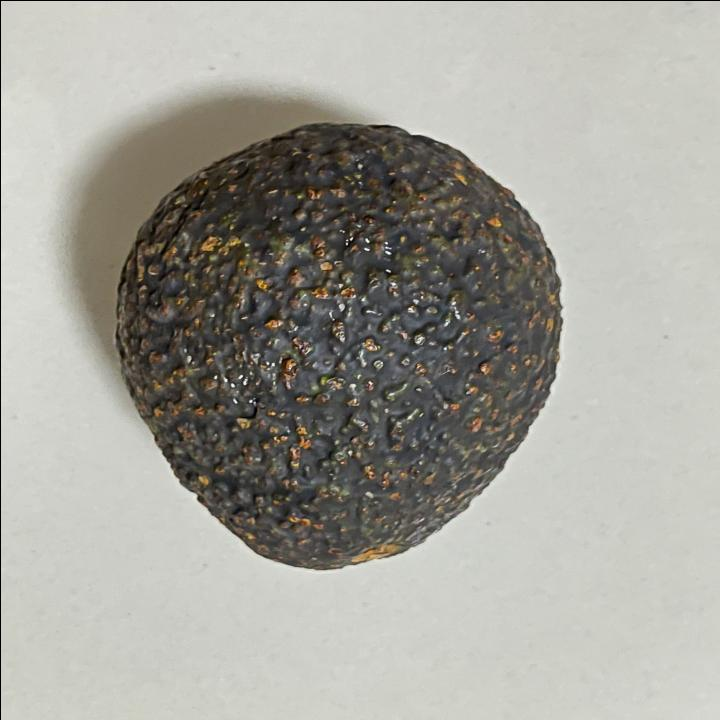Level2: (102, 116, 572, 574)
